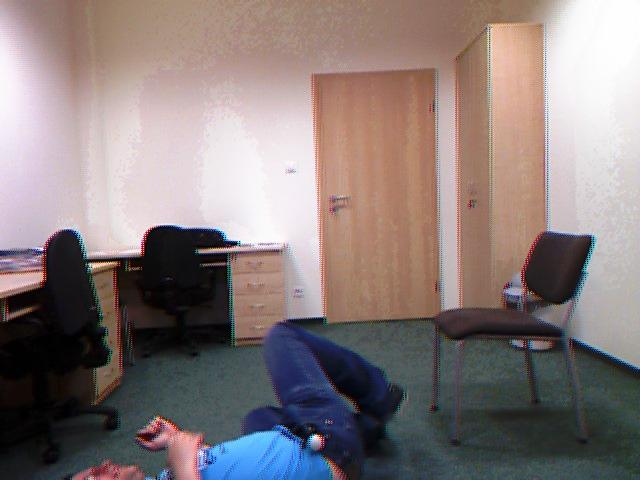fall: (136, 322, 406, 479), (72, 461, 144, 479)
